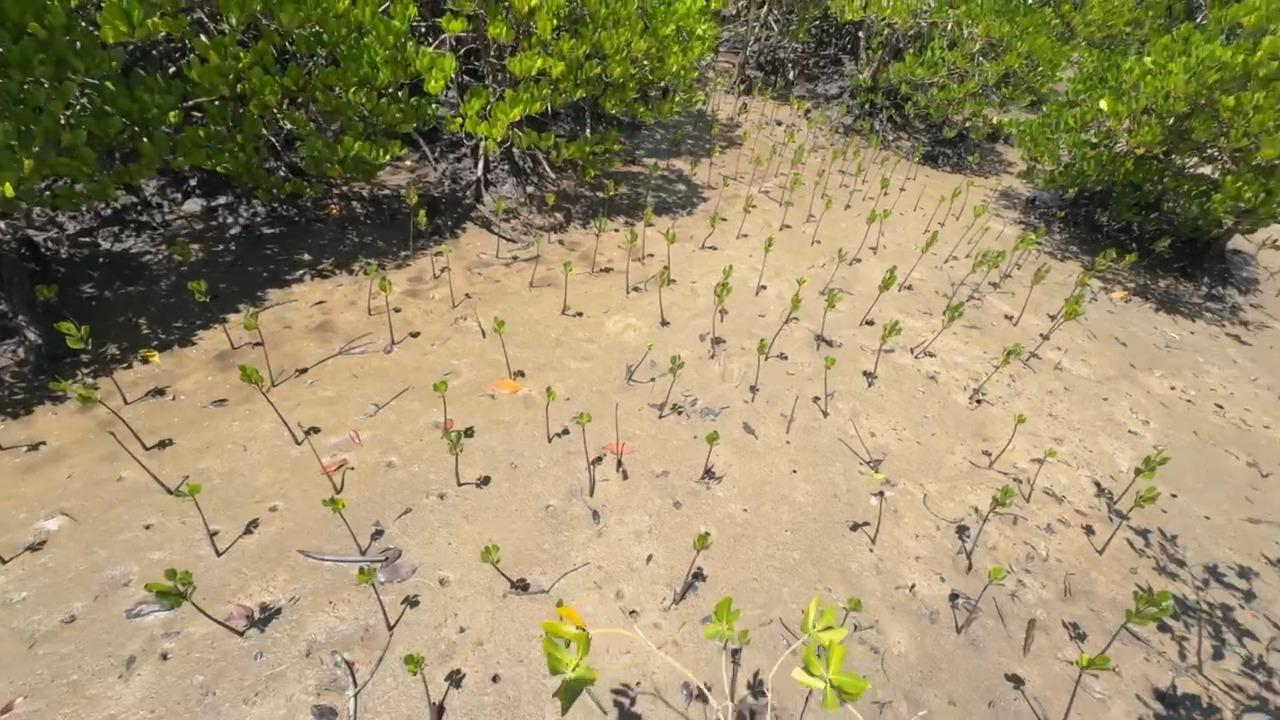Tree: (48, 375, 150, 451), (144, 568, 242, 636), (53, 320, 129, 406), (1094, 590, 1175, 659), (236, 364, 301, 446), (105, 430, 173, 496), (1098, 486, 1161, 556), (966, 484, 1017, 561), (1025, 303, 1086, 363), (174, 482, 221, 558), (186, 279, 236, 350), (957, 566, 1007, 635), (1113, 448, 1172, 506), (943, 249, 992, 316), (297, 421, 340, 495), (914, 300, 967, 360), (1063, 654, 1111, 720), (968, 343, 1022, 401), (1017, 210, 1066, 271), (674, 533, 712, 605), (764, 292, 803, 362), (321, 495, 365, 556), (1089, 251, 1139, 304), (944, 204, 988, 264), (898, 229, 939, 292), (1013, 262, 1052, 327), (993, 231, 1035, 291), (243, 312, 276, 388), (356, 564, 392, 632), (869, 319, 904, 388), (1005, 224, 1047, 280), (859, 265, 897, 326), (1042, 288, 1086, 340), (1051, 271, 1095, 323), (35, 284, 80, 332), (966, 250, 1006, 303), (711, 264, 733, 360), (988, 413, 1027, 467), (1078, 247, 1118, 294), (847, 207, 878, 266), (1027, 446, 1058, 504), (658, 354, 685, 420), (480, 544, 518, 590), (817, 288, 844, 352), (778, 143, 805, 207), (413, 208, 437, 279), (850, 417, 880, 473), (576, 411, 595, 498), (403, 652, 432, 706), (754, 233, 776, 298), (779, 172, 802, 232), (806, 154, 826, 223), (820, 247, 848, 295), (862, 153, 890, 201), (493, 316, 513, 379), (821, 144, 843, 199), (785, 276, 810, 324), (442, 430, 463, 487), (402, 186, 418, 260), (641, 161, 661, 220), (591, 208, 608, 273), (378, 276, 394, 345), (810, 197, 832, 247), (751, 338, 768, 402), (861, 133, 881, 186), (941, 180, 963, 228), (775, 130, 796, 179), (700, 430, 720, 481), (870, 489, 888, 545), (843, 160, 862, 211), (628, 343, 653, 381), (901, 144, 922, 189), (923, 194, 946, 235), (838, 147, 861, 188), (757, 144, 776, 193), (168, 240, 194, 275), (734, 128, 751, 181), (441, 244, 455, 308), (494, 195, 508, 259), (431, 379, 448, 431), (883, 154, 903, 198), (824, 355, 837, 419), (626, 226, 638, 295), (964, 226, 989, 259), (873, 208, 890, 256), (641, 207, 656, 261), (744, 77, 762, 122), (749, 118, 766, 164), (556, 597, 571, 649), (746, 153, 764, 196), (707, 141, 723, 189), (545, 385, 558, 444), (736, 195, 753, 240), (839, 596, 862, 629), (839, 131, 857, 172), (967, 216, 992, 245), (730, 81, 748, 121), (956, 179, 973, 221), (665, 226, 677, 285), (658, 265, 669, 327), (667, 130, 684, 170), (366, 264, 379, 316), (702, 212, 720, 249), (811, 112, 827, 153), (561, 261, 573, 315), (545, 192, 557, 243), (714, 176, 730, 214), (601, 179, 616, 217), (470, 304, 486, 339), (872, 177, 890, 208), (796, 99, 812, 133), (530, 234, 540, 288), (778, 121, 793, 157), (1254, 233, 1280, 253), (786, 396, 799, 434), (708, 120, 721, 158), (717, 72, 729, 112), (783, 93, 795, 132), (711, 69, 721, 114), (988, 178, 1002, 207), (761, 86, 774, 117), (889, 188, 905, 213), (913, 184, 926, 213), (772, 100, 781, 136), (615, 403, 619, 473), (804, 120, 814, 142), (995, 224, 1006, 241), (768, 100, 775, 123), (912, 160, 919, 181), (0, 554, 7, 565), (693, 120, 697, 132), (0, 443, 4, 452)
